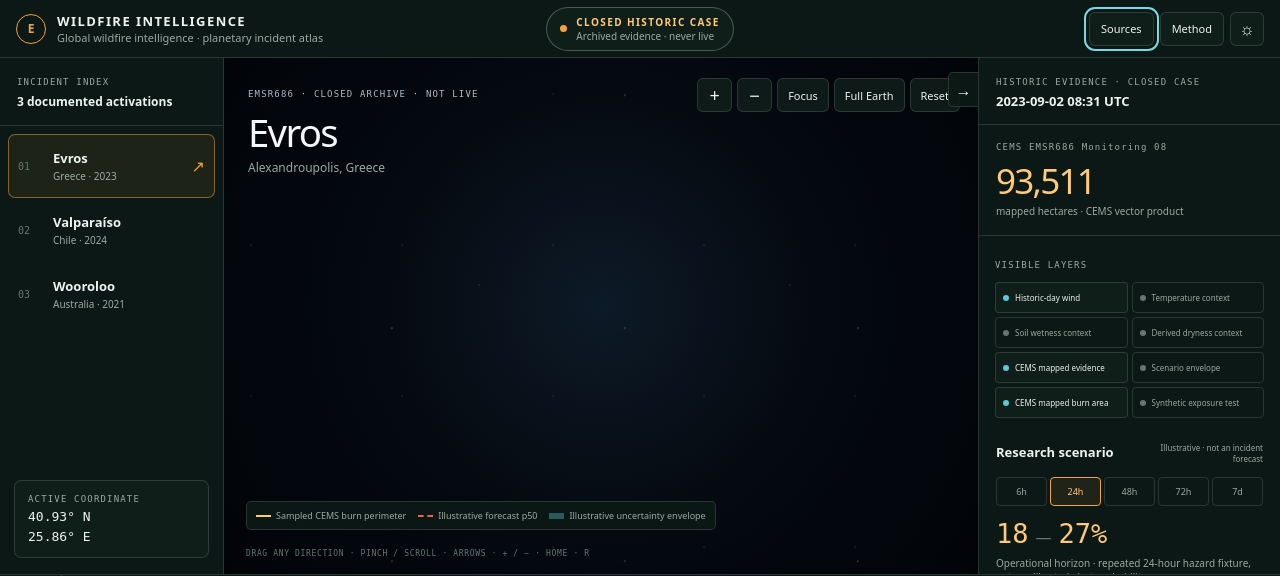
Test case: wildfire dashboard controls › manages focus and Escape for the provenance dialog
Click the button "Sources" at {"x": 1121, "y": 28}, box [1089, 12, 1154, 46]
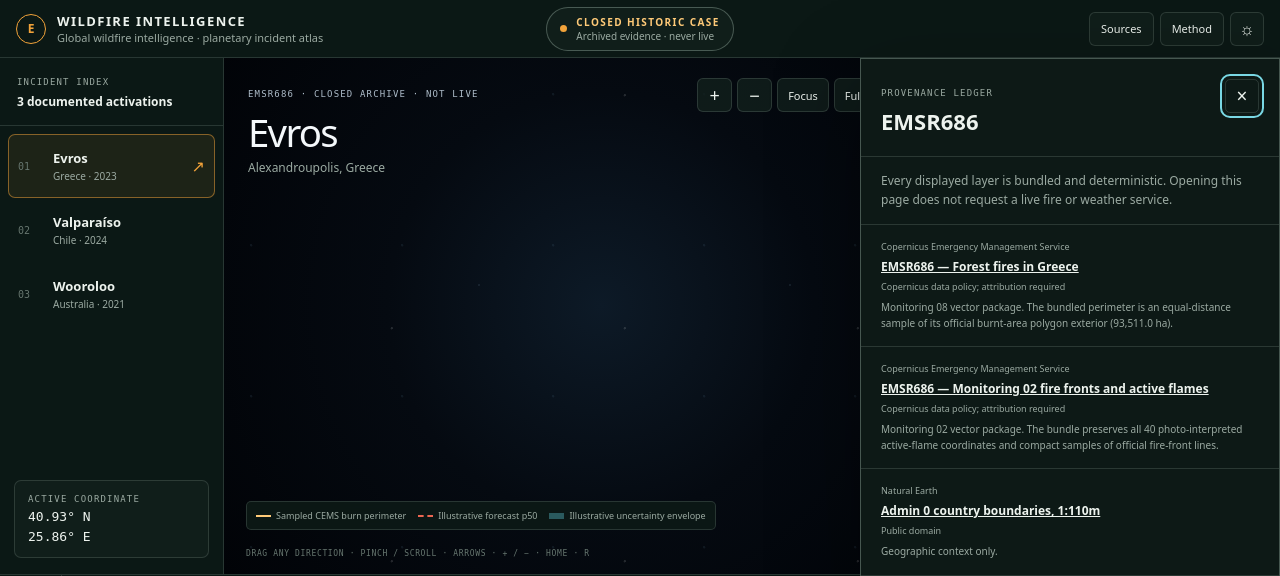
Press Tab
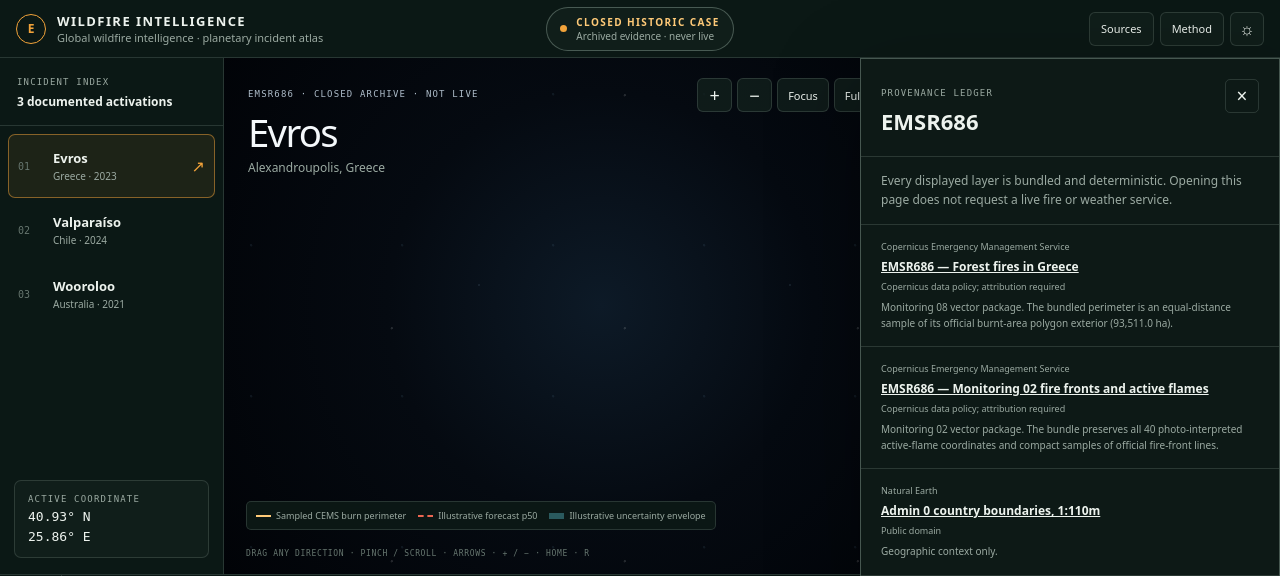
Press Escape
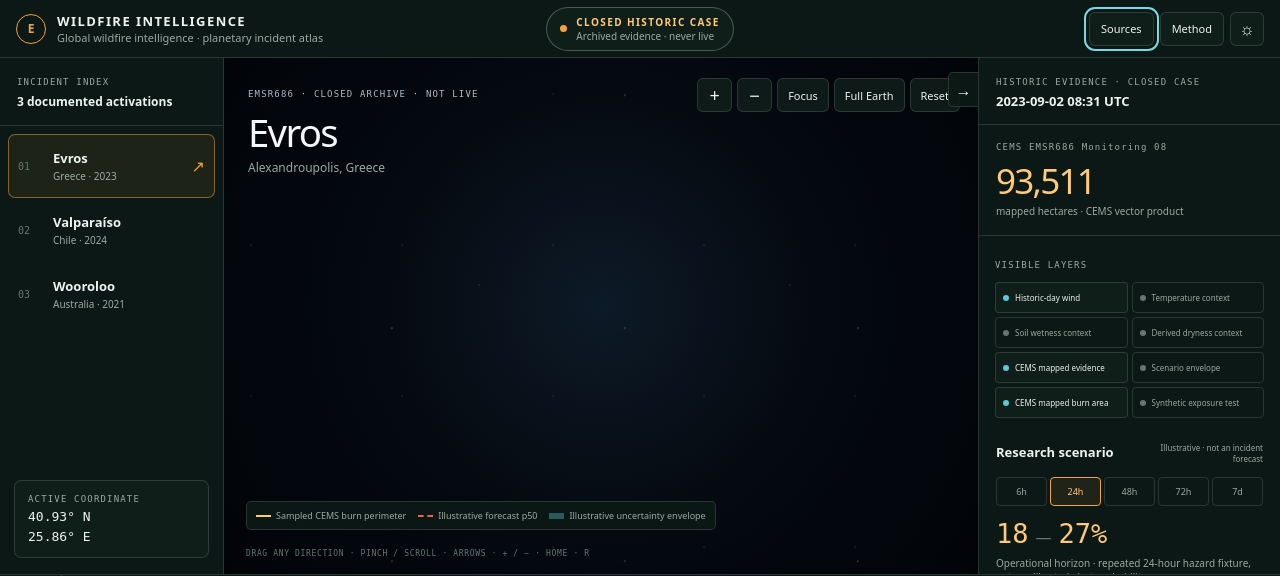
Now the dialog is gone
